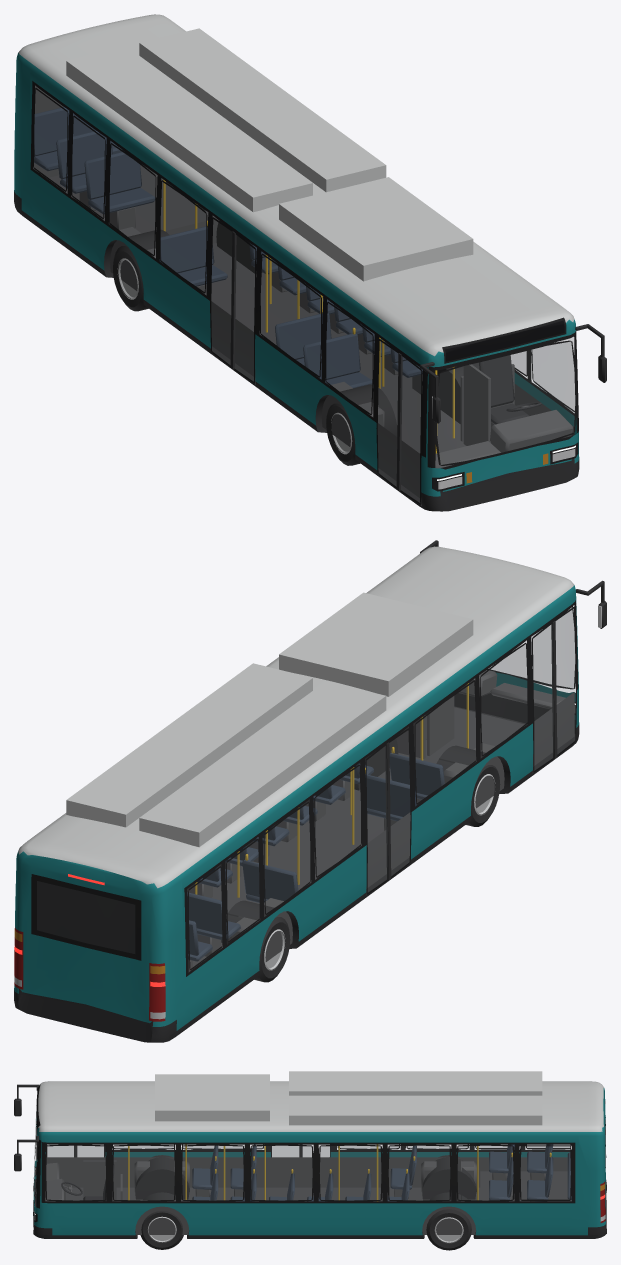
The model's file is city_bus_traffic.glb.
3 renders of one model, top to bottom at view 1: azimuth 30°, elevation 25°; view 2: azimuth 150°, elevation 25°; view 3: azimuth 270°, elevation 25°, orthographic. The views are drawn at different scales.
Parts seen in each view (by area): view 1: body, roof_equipment, interior, glass_side_R, glass_windscreen, glass_side_L, door_frames, wheel_RR_mesh, wheel_FR_mesh; view 2: body, roof_equipment, glass_side_R, interior, glass_rear, glass_windscreen, door_frames, wheel_RR_mesh, wheel_FR_mesh; view 3: body, glass_side_L, interior, roof_equipment, glass_side_R, wheel_RL_mesh, wheel_FL_mesh, mirror_L, mirror_R.
Part boxes in pixels (bbox=[...]): body: bbox=[14, 14, 579, 511]; roof_equipment: bbox=[66, 28, 473, 281]; interior: bbox=[33, 85, 574, 499]; glass_side_R: bbox=[33, 88, 422, 504]; glass_windscreen: bbox=[434, 340, 576, 465]; glass_side_L: bbox=[511, 337, 574, 412]; door_frames: bbox=[230, 231, 402, 491]; wheel_RR_mesh: bbox=[113, 246, 148, 311]; wheel_FR_mesh: bbox=[326, 403, 360, 465]; body: bbox=[14, 546, 579, 1042]; roof_equipment: bbox=[66, 592, 473, 847]; glass_side_R: bbox=[188, 606, 576, 970]; interior: bbox=[187, 670, 574, 972]; glass_rear: bbox=[35, 879, 136, 955]; glass_windscreen: bbox=[487, 606, 575, 689]; door_frames: bbox=[385, 621, 557, 880]; wheel_RR_mesh: bbox=[238, 916, 290, 982]; wheel_FR_mesh: bbox=[466, 765, 500, 826]; body: bbox=[33, 1081, 606, 1238]; glass_side_L: bbox=[44, 1144, 572, 1201]; interior: bbox=[45, 1144, 571, 1234]; roof_equipment: bbox=[155, 1071, 542, 1125]; glass_side_R: bbox=[46, 1144, 571, 1157]; wheel_RL_mesh: bbox=[426, 1209, 471, 1250]; wheel_FL_mesh: bbox=[140, 1211, 183, 1249]; mirror_L: bbox=[14, 1136, 38, 1171]; mirror_R: bbox=[14, 1084, 38, 1116].
Size of the model in its own units: 2.8 by 3.1 by 12.4.
